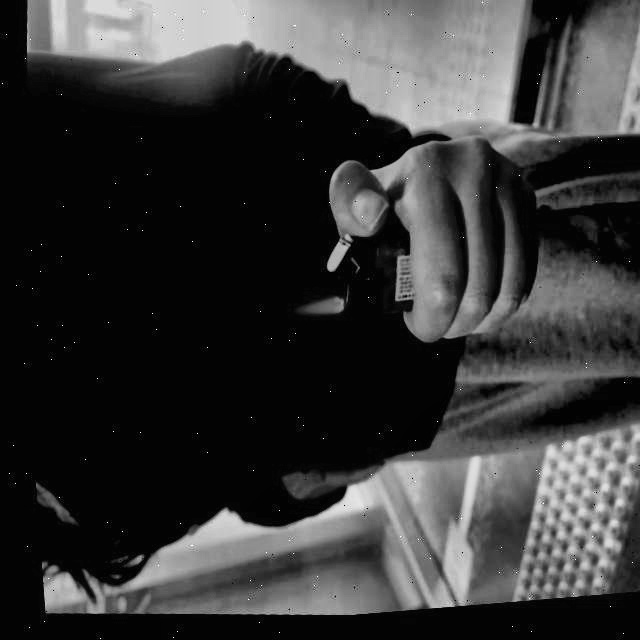Fire: (286, 294, 341, 326)
